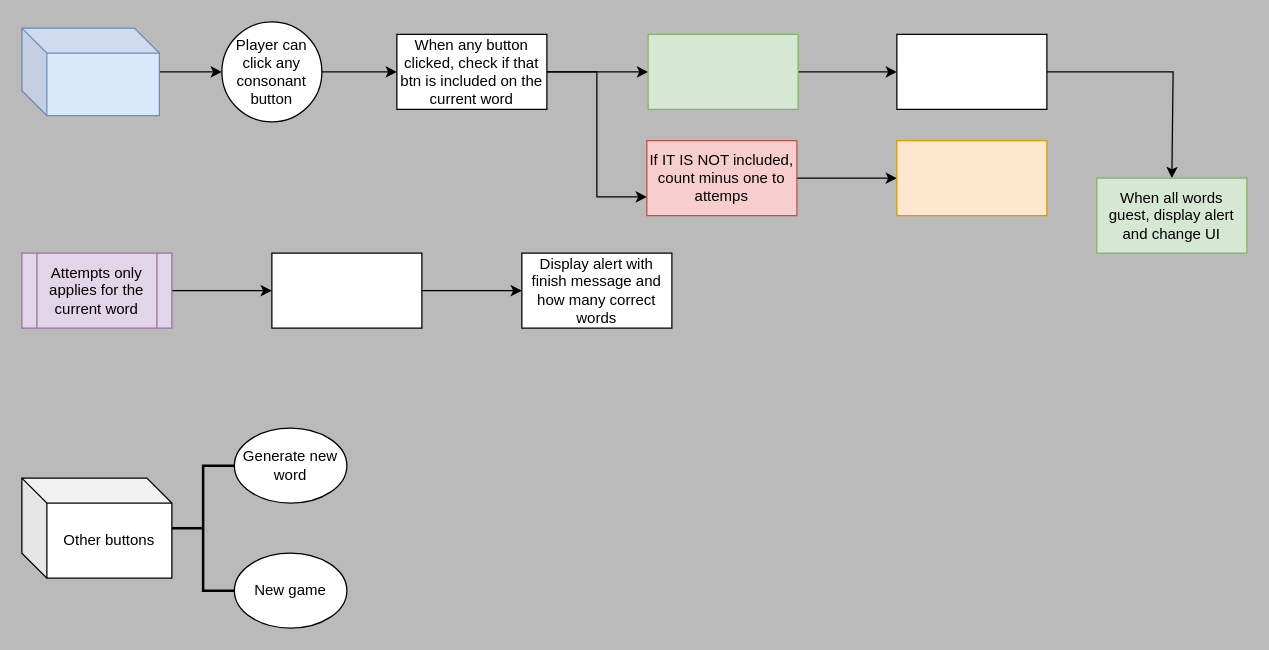
This 1269x650 diagram has some shape labels left out. Here are the shapes that lost their labels. From the top down, the centre of each, then its label:
[90,71]: Create consonant buttons
[722,71]: If IT IS included, display that letter in UI
[971,71]: If current word is guessed, sum one to guessed words
[971,177]: Button changes color
[346,290]: If no more attempts, game finish.
